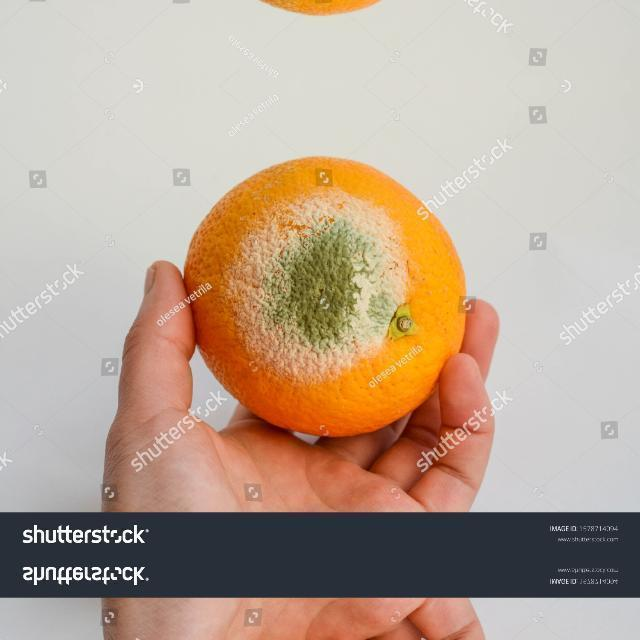rotten orange: (182, 154, 468, 438)
